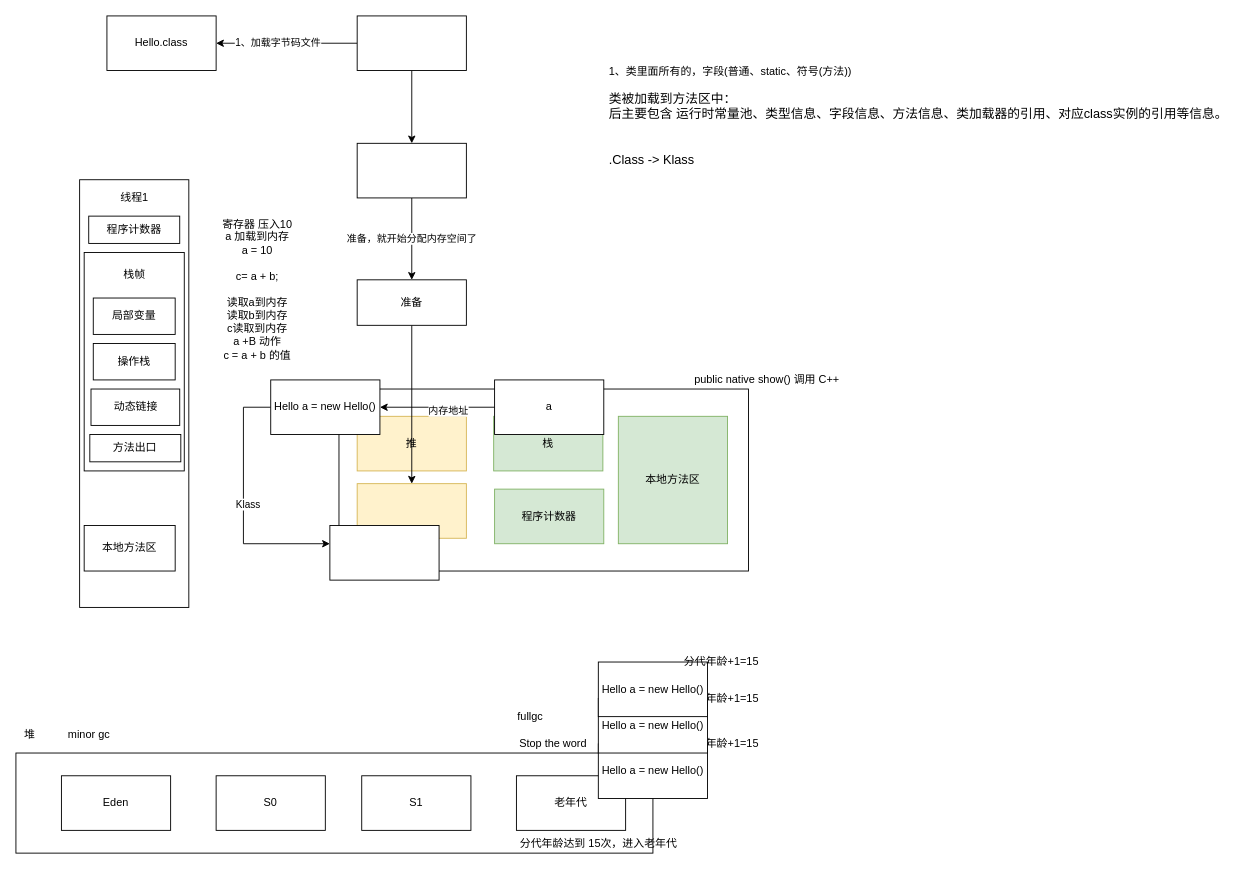
The diagram is 1260 pixels wide and 869 high, and some of its shapes have lost their labels. The shapes that lost their labels are listed below. From the top down, each one's box as (x1, y1, x2, y2) in pixels, then its label:
(356, 15, 466, 71): 类加载器
(356, 142, 466, 198): 验证
(356, 483, 466, 538): 方法区
(329, 525, 439, 580): Class
